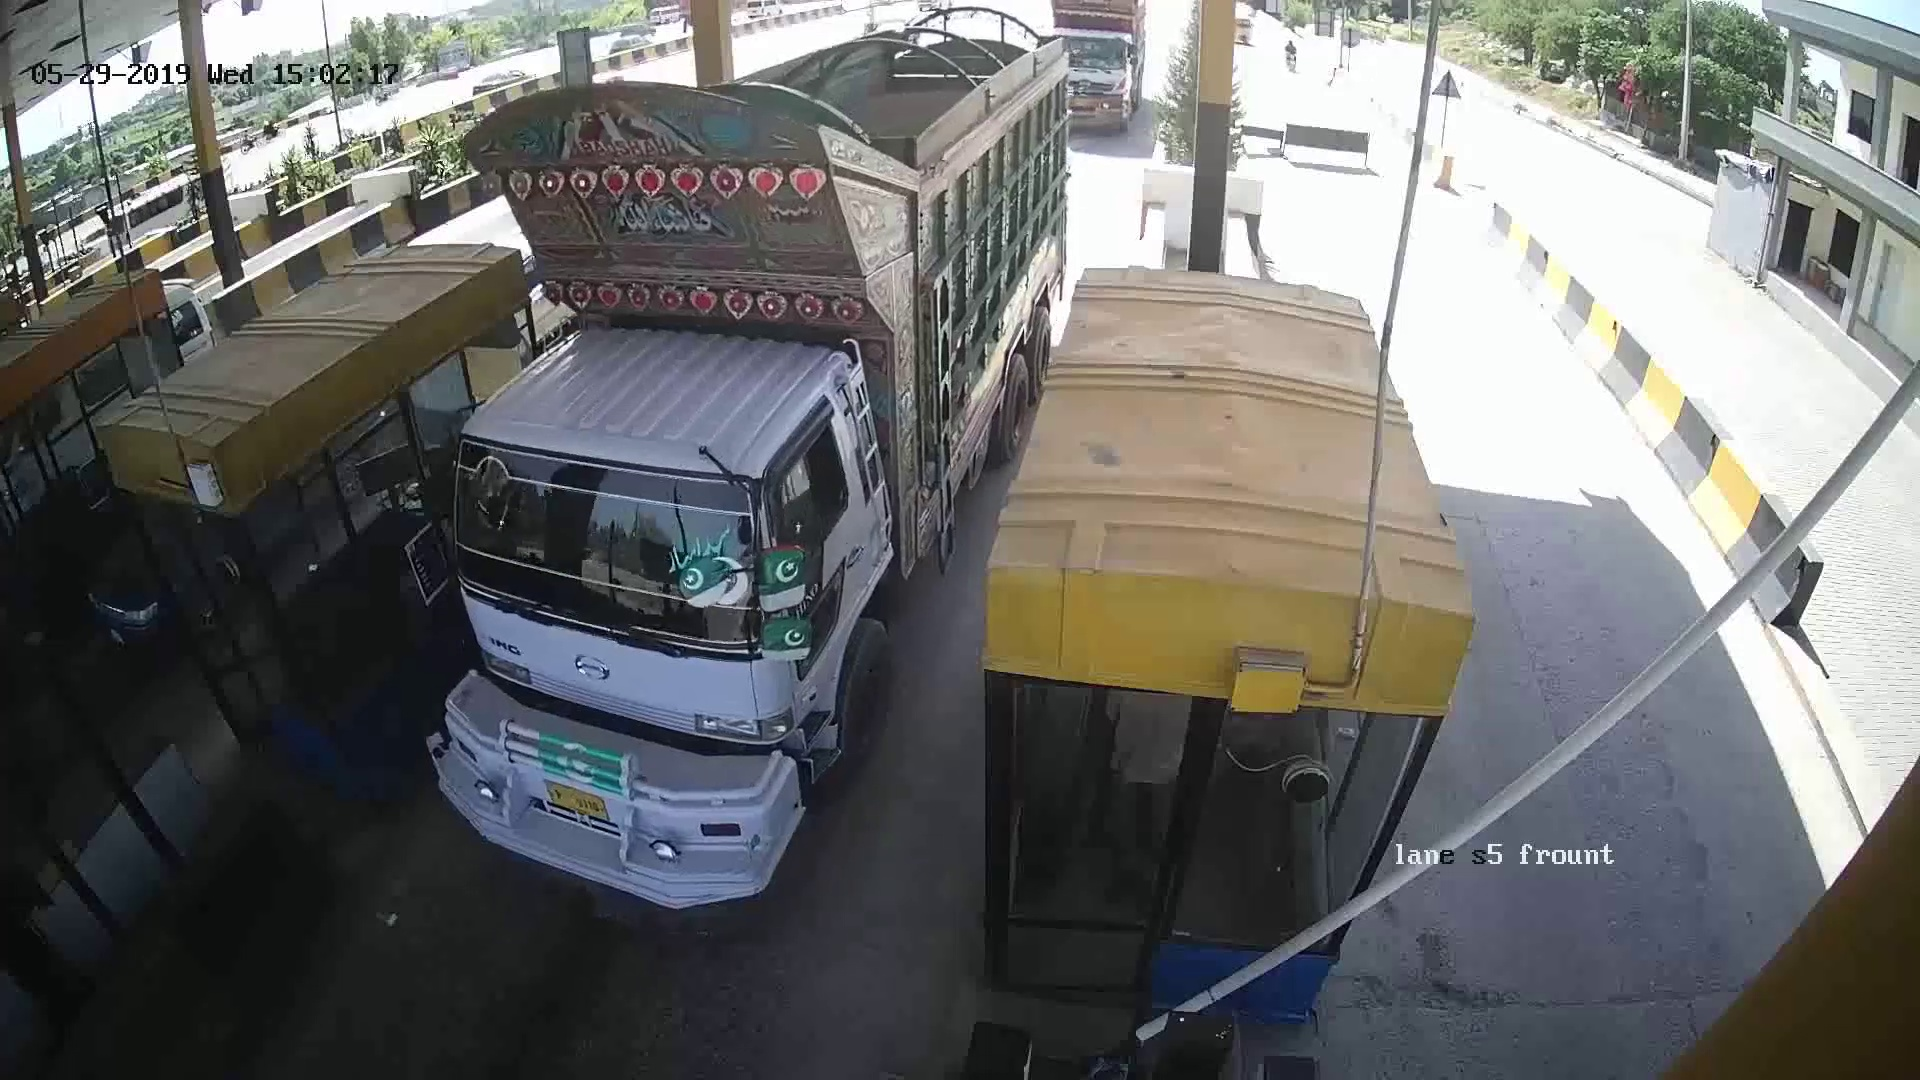truck: (513, 105, 990, 525)
